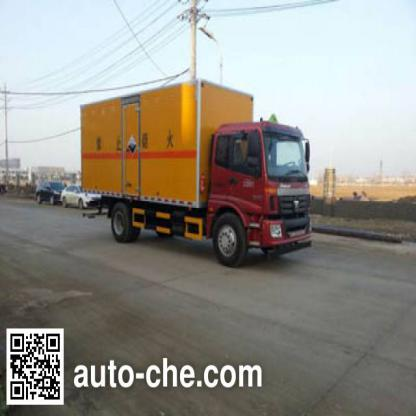normal-truck: (73, 86, 306, 271), (311, 271, 319, 271)
